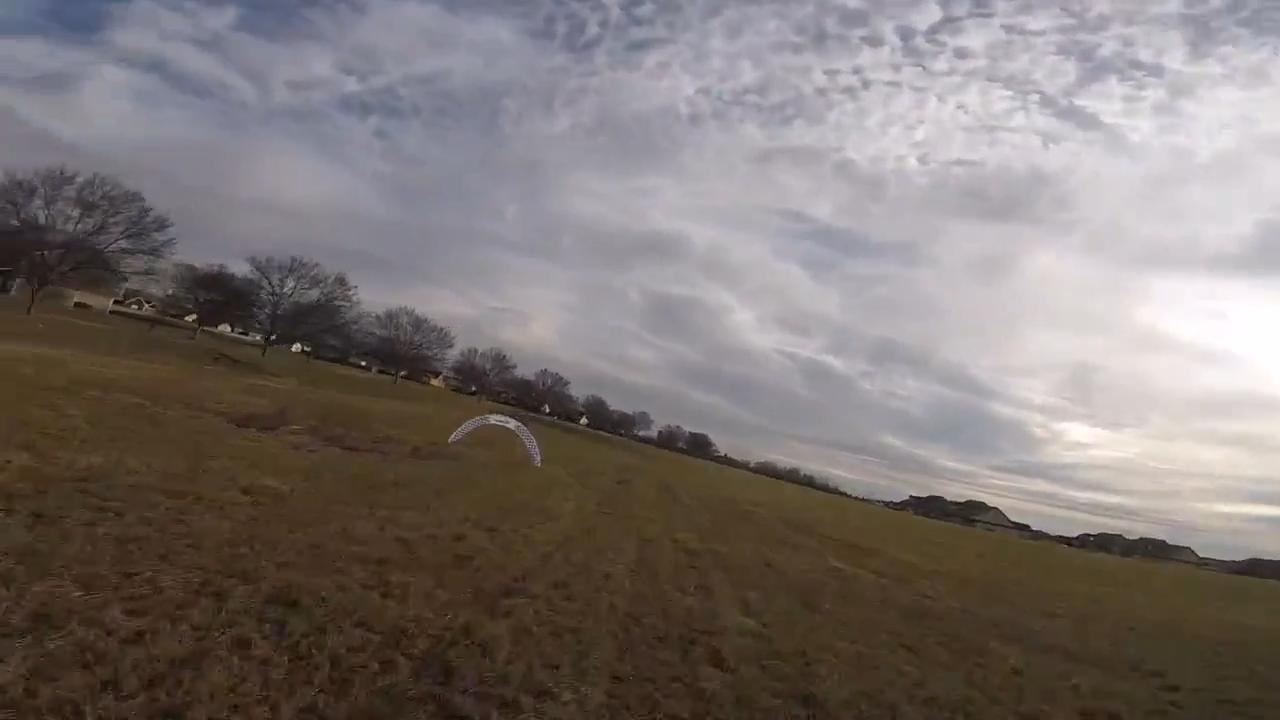gate: (442, 412, 543, 471)
